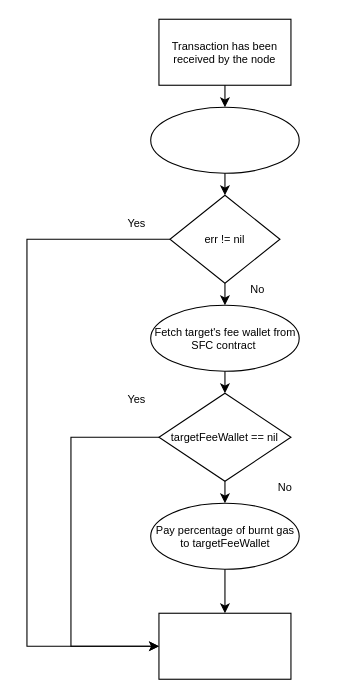
Some shapes in this 338 by 699 pixel diagram are drawn without their labels. The shapes that lost their labels are listed below. From the top down, each one's centre as x and y in pixels, then its label:
point (224, 139): Apply transaction to current blockchain state
point (224, 645): Done
